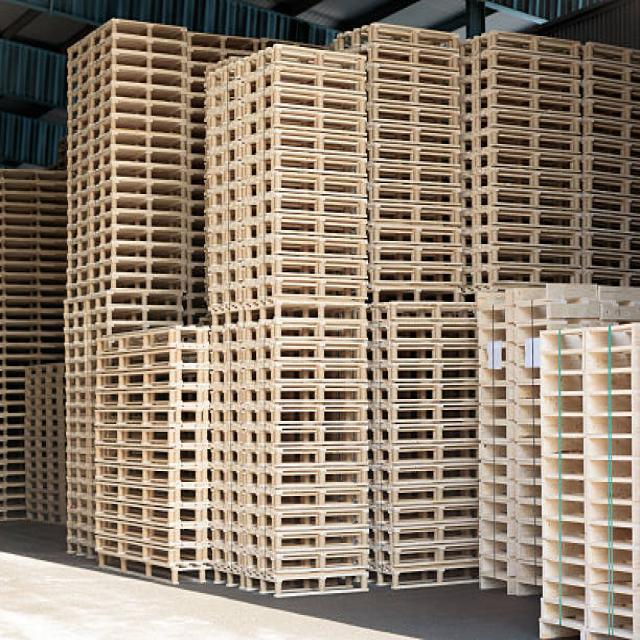Wooden-Pallets: (57, 14, 187, 67), (462, 21, 583, 65), (333, 20, 458, 58), (58, 289, 183, 326), (534, 323, 640, 363), (197, 51, 242, 95)
